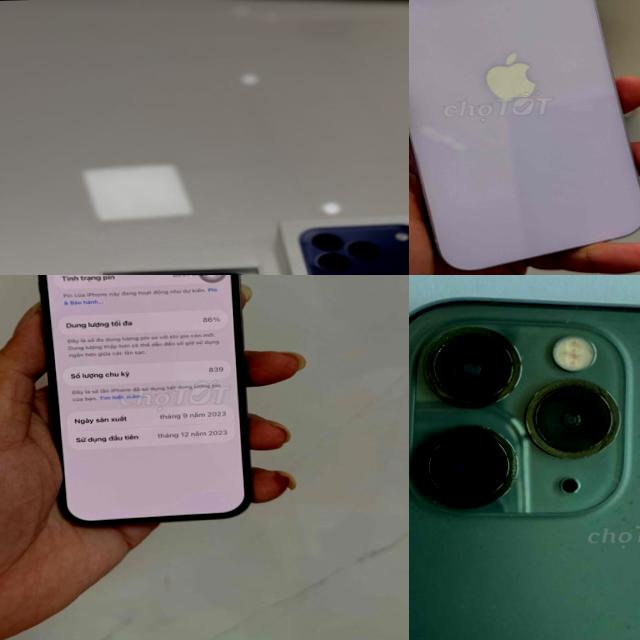scratch: (409, 306, 610, 507)
